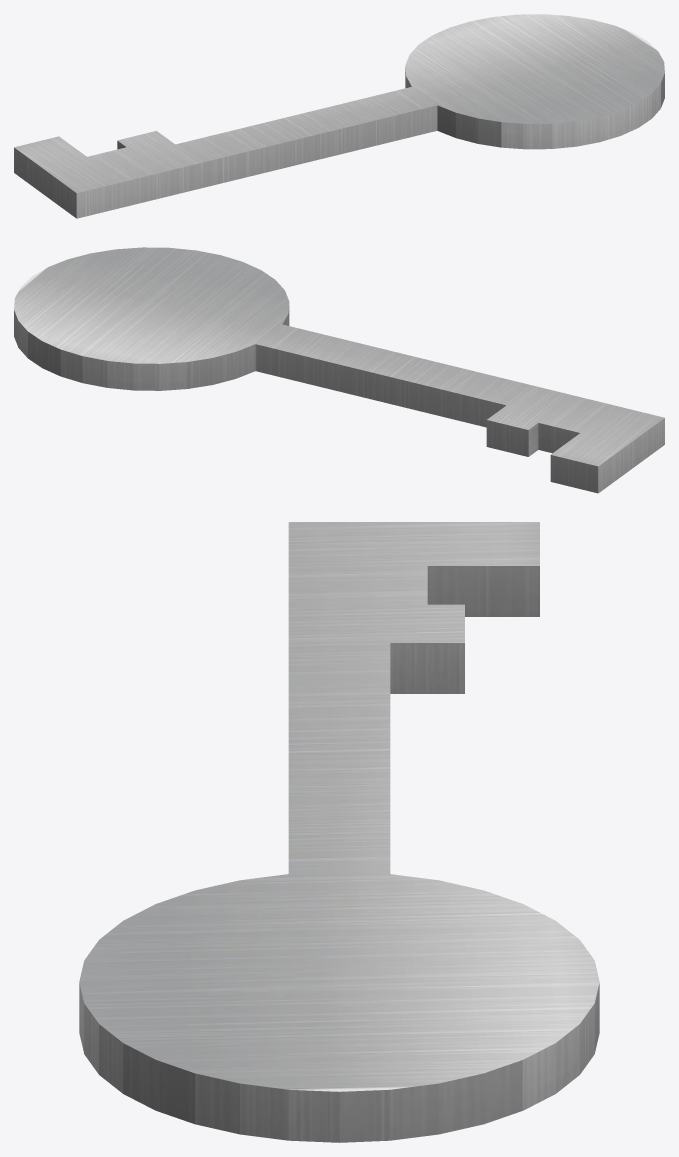
Rendered from key.obj.
3 views of the same model, one above another, from view 1: azimuth 30°, elevation 25°; view 2: azimuth 150°, elevation 25°; view 3: azimuth 270°, elevation 25° (orthographic). The views are drawn at different scales.
Parts seen in each view (by area): view 1: Key; view 2: Key; view 3: Key.
Part boxes in pixels (left/top/right/bottom): Key: left=14, top=14, right=664, bottom=218; Key: left=14, top=247, right=664, bottom=493; Key: left=79, top=522, right=599, bottom=1142.
Size of the model in its own units: 0.259 by 0.0108 by 0.1.
